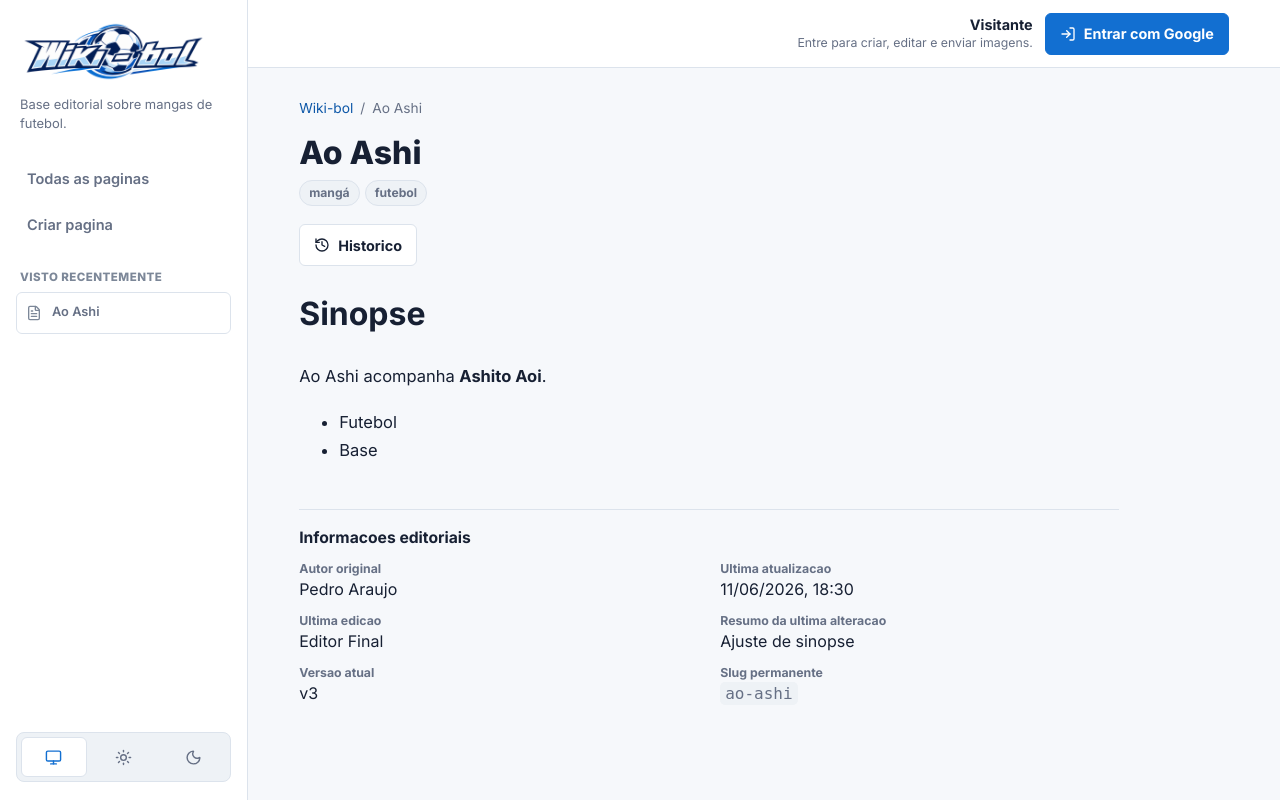
Scenario: Wiki-bol frontend › canonicalizes accented keyword chips before navigating to the filtered listing
Click the link "mangá".
click(329, 193)  # box top-left (299, 180), bottom-right (360, 206)
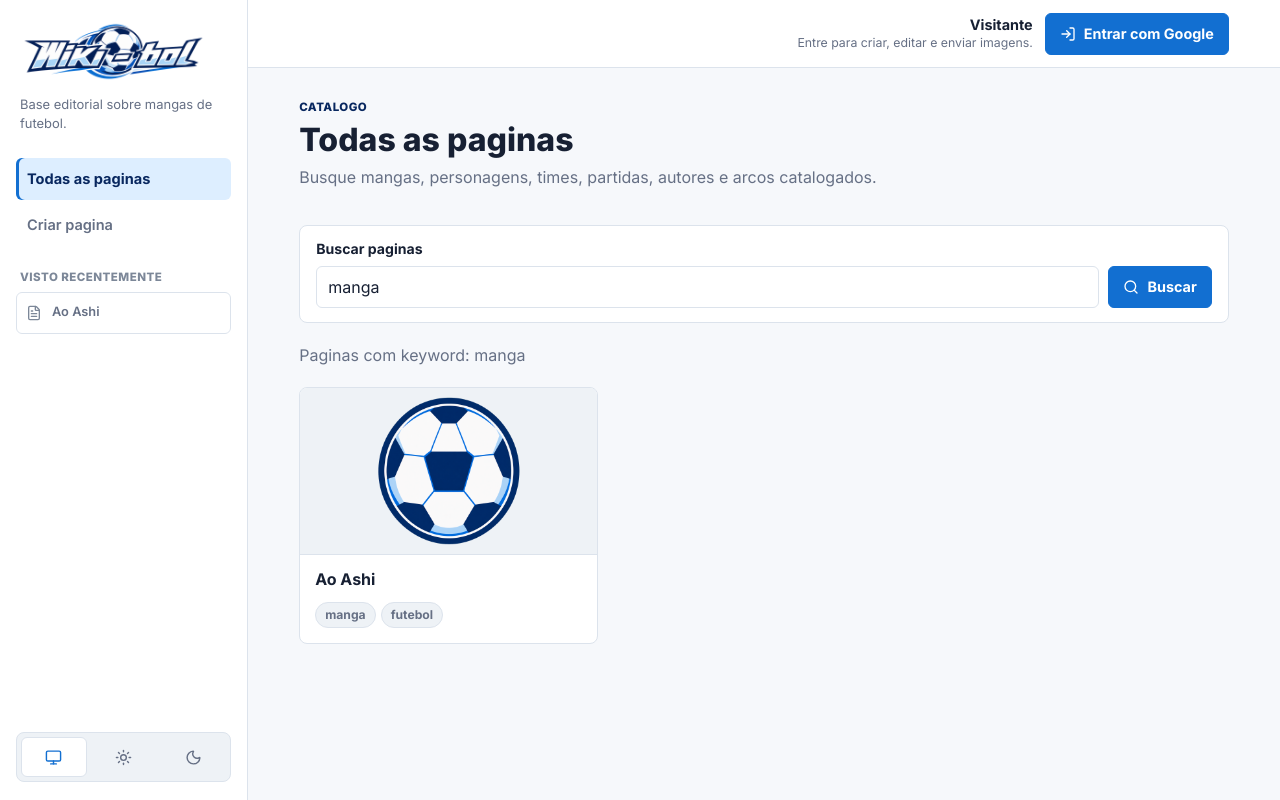
Expected: the text "Paginas com keyword: manga" is shown, top-left (299, 345), bottom-right (526, 365)
